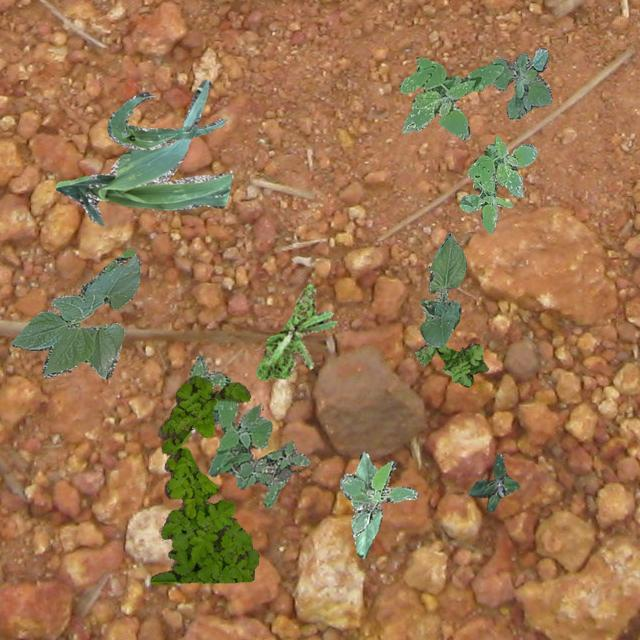crop: (54, 78, 230, 224), (10, 248, 140, 378), (107, 90, 226, 148), (418, 232, 466, 346), (350, 450, 380, 558)
weed: (150, 374, 258, 582), (188, 354, 308, 506), (398, 56, 502, 140), (256, 282, 336, 378), (458, 136, 536, 232), (338, 460, 416, 536), (490, 46, 550, 118), (413, 342, 488, 386), (468, 452, 518, 512)
